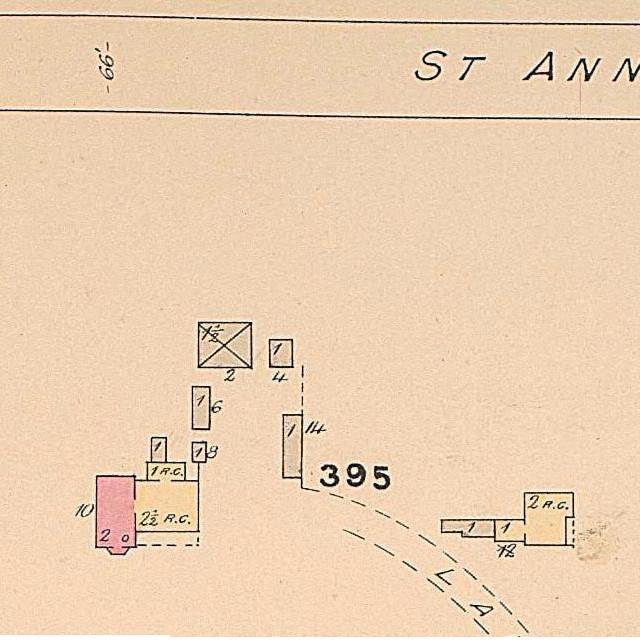building-footprints: (95, 462, 198, 554), (494, 492, 573, 545), (198, 323, 251, 368), (282, 415, 301, 478), (441, 520, 495, 537), (192, 387, 209, 429), (269, 340, 292, 367), (151, 438, 166, 462), (192, 442, 205, 462)
